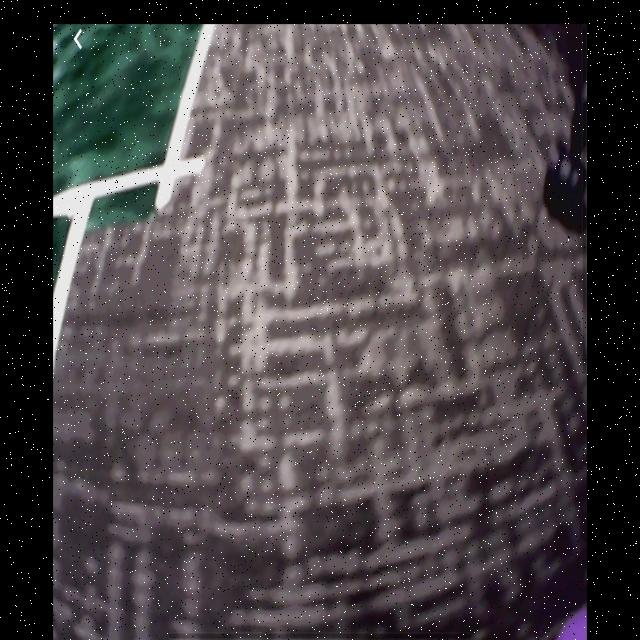ball: (553, 606, 587, 640)
